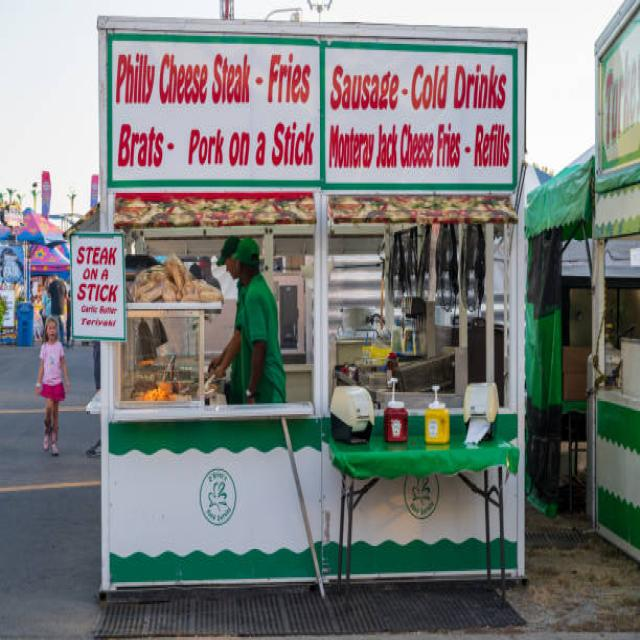Emperan: (69, 15, 540, 623)
